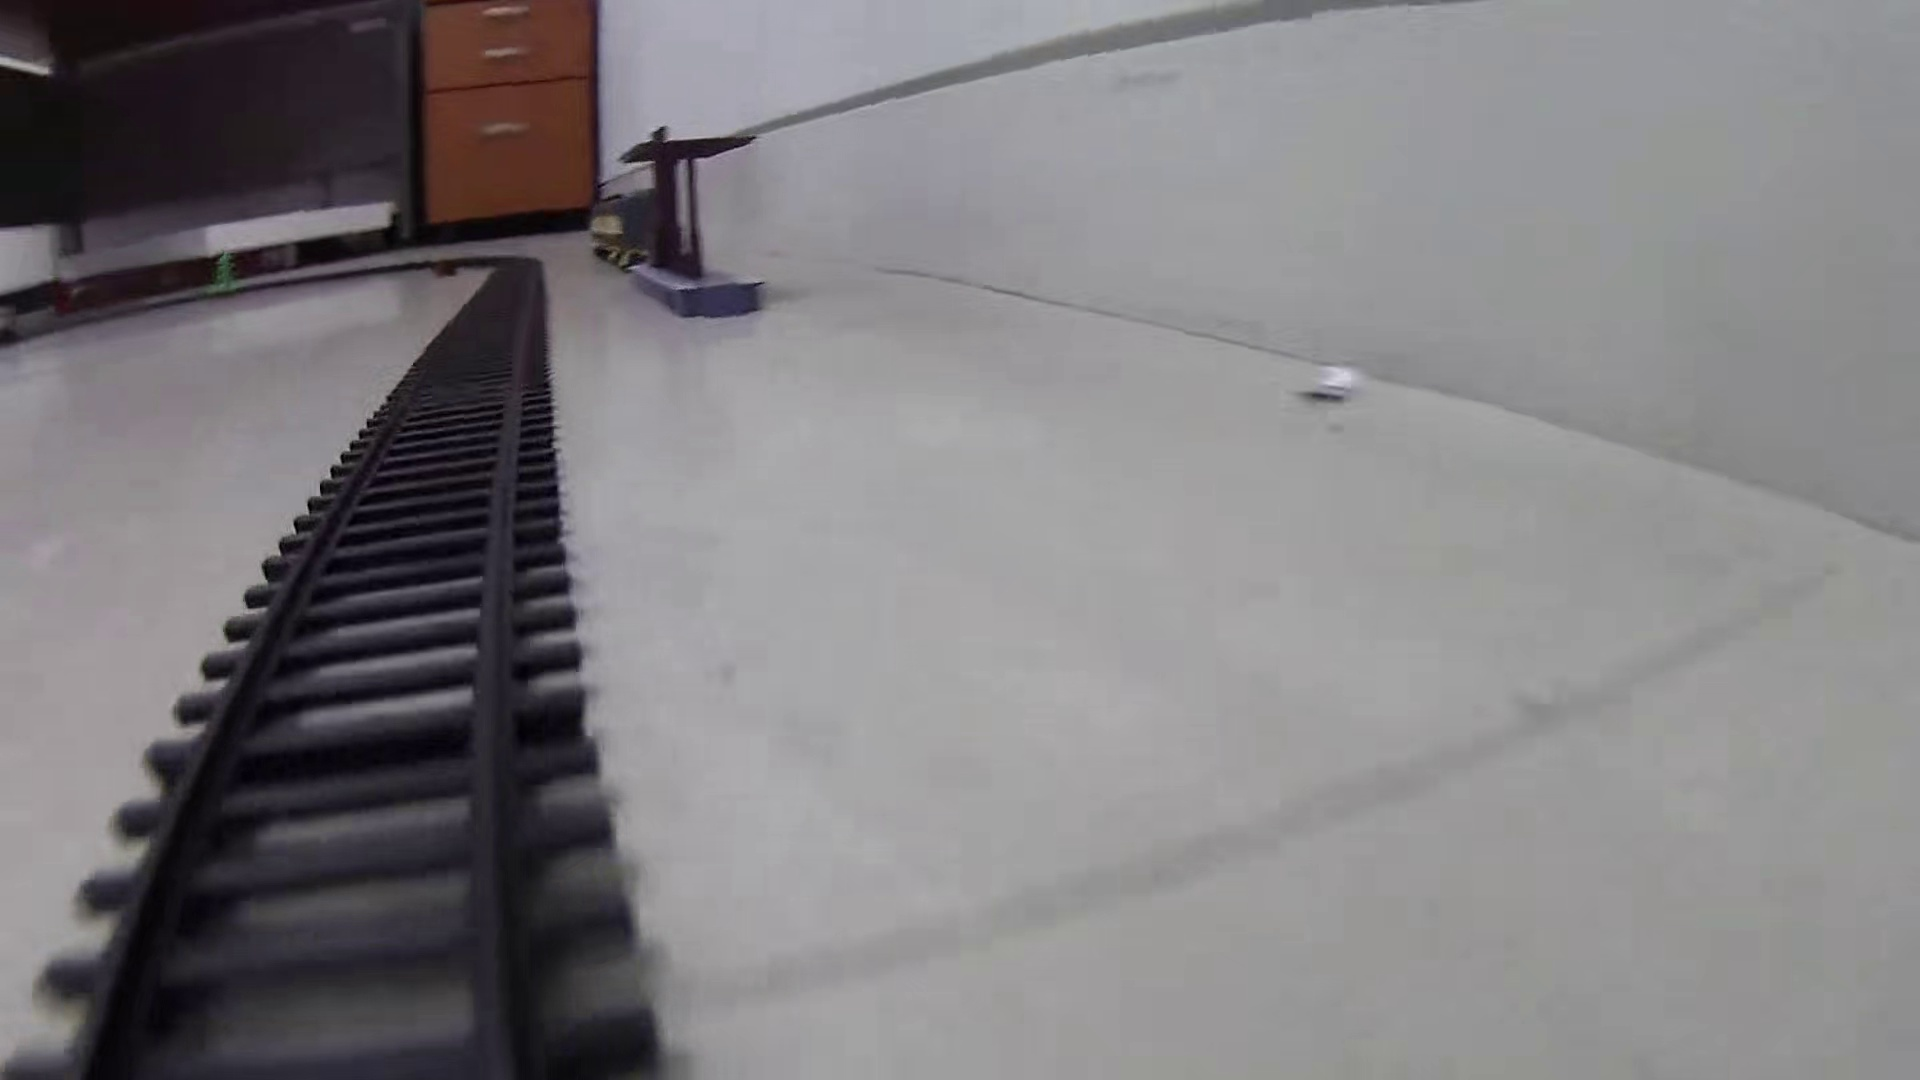tree: (212, 250, 239, 298)
